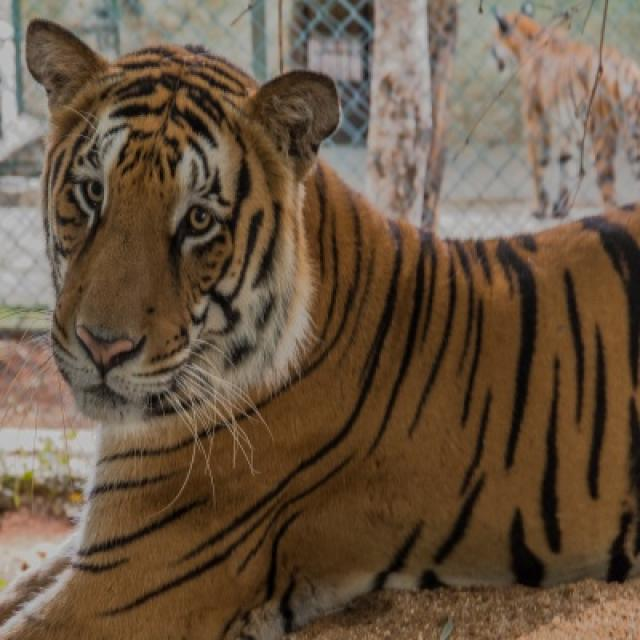Tiger: (1, 6, 638, 638)
